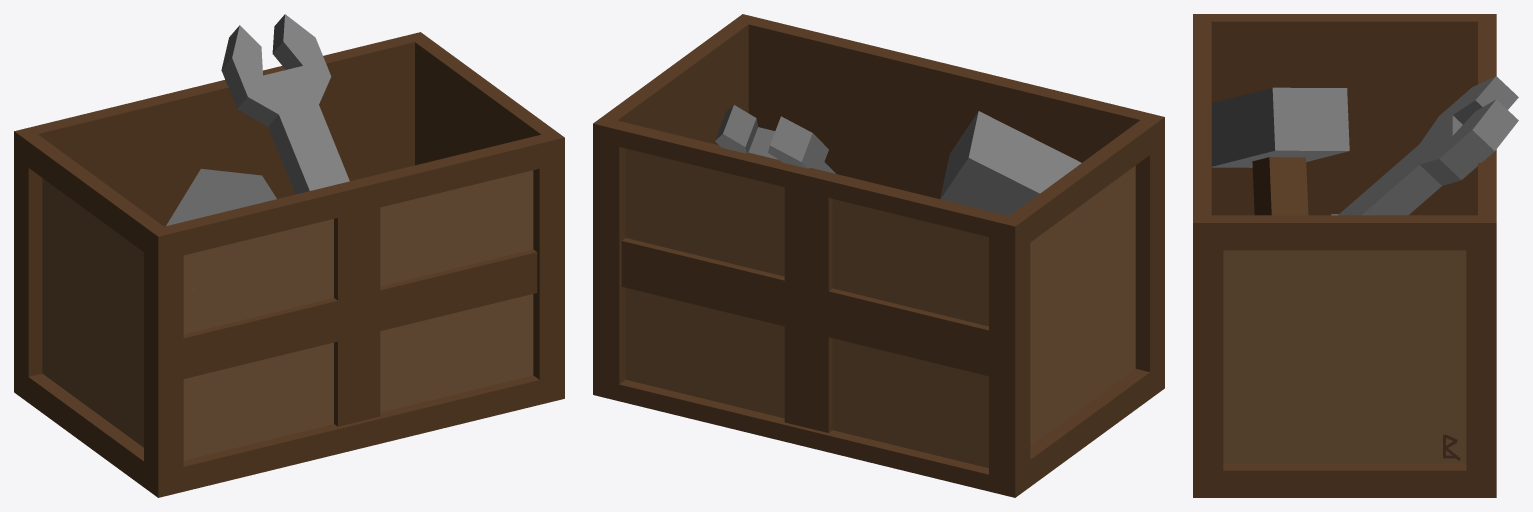
Rendered from Kiste (1).fbx.
3 views of the same model, side by side, from view 1: azimuth 30°, elevation 25°; view 2: azimuth 150°, elevation 25°; view 3: azimuth 270°, elevation 25° (orthographic). The views are drawn at different scales.
Visible parts, largest first — view 1: Box, Schraubenzieger Ding, Hammer; view 2: Box, Hammer, Schraubenzieger Ding; view 3: Box, Hammer, Schraubenzieger Ding.
Part boxes in pixels (x1=…): Box: x1=14, y1=32, x2=564, y2=497; Schraubenzieger Ding: x1=221, y1=14, x2=349, y2=194; Hammer: x1=166, y1=168, x2=276, y2=289; Box: x1=593, y1=14, x2=1164, y2=497; Hammer: x1=940, y1=111, x2=1081, y2=215; Schraubenzieger Ding: x1=715, y1=105, x2=835, y2=173; Box: x1=1193, y1=14, x2=1496, y2=497; Hammer: x1=1211, y1=87, x2=1349, y2=215; Schraubenzieger Ding: x1=1338, y1=76, x2=1518, y2=215.
Bounding box in the file's own units: 326 × 239 × 215.
